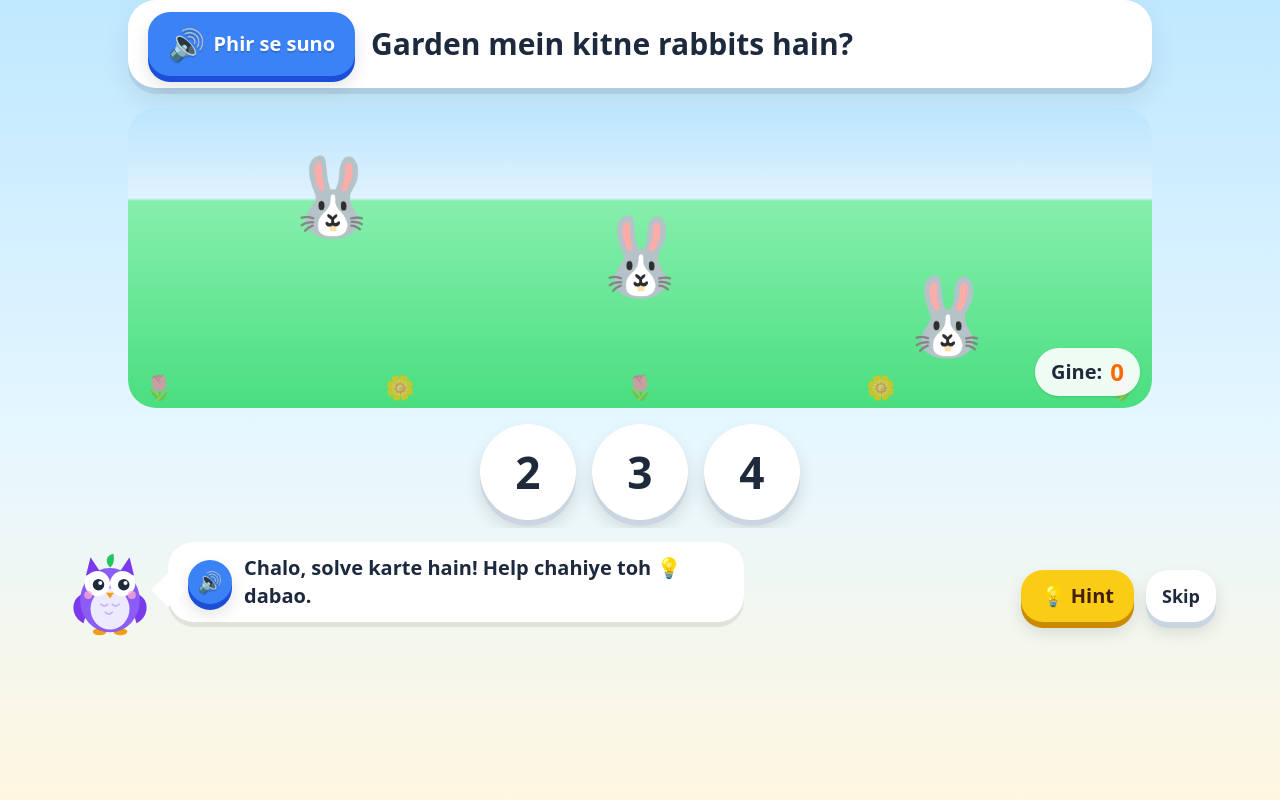
Test: QuestionHost › practice: wrong answer gives a hint and allows retry; outcome is "retry"
Click the button with test id "choice-2": (528, 472) [480,424,576,520]
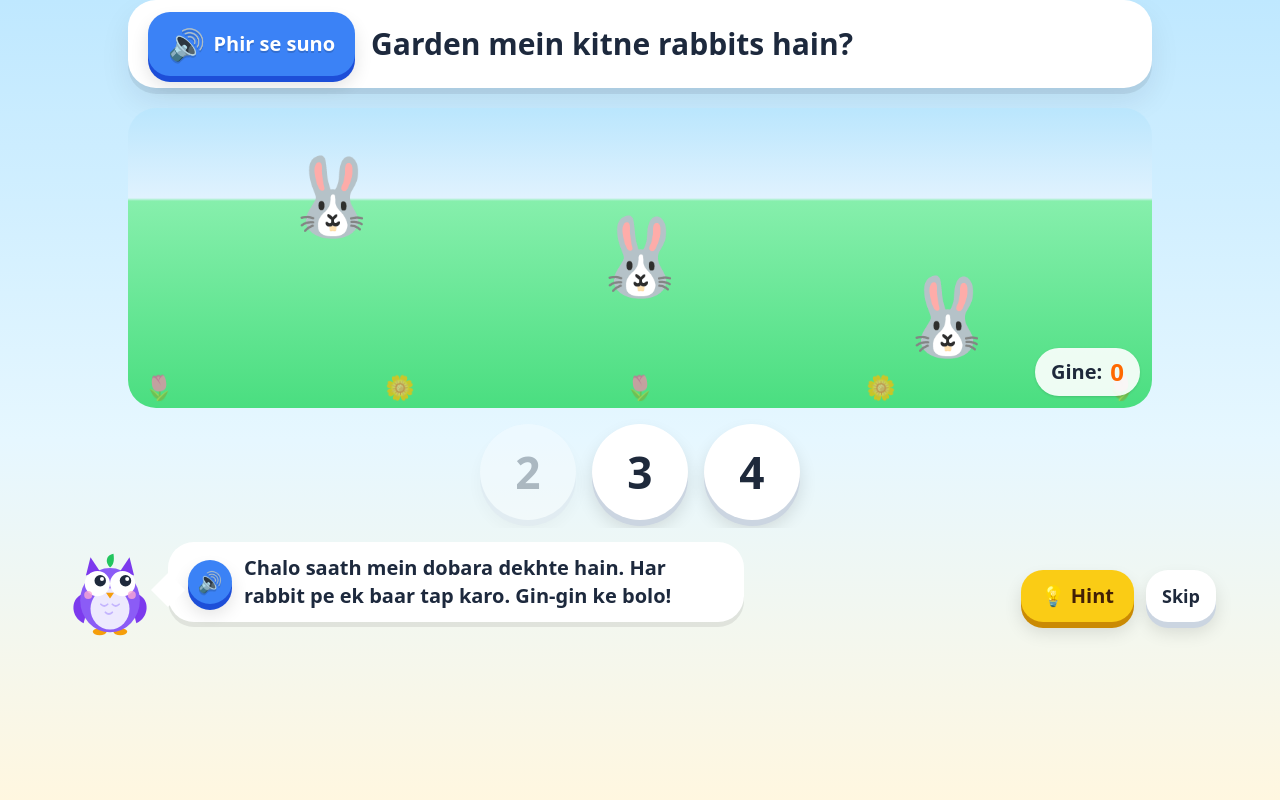
Expected: the text with test id "feedback-text" has attribute data-state="wrong", [244,554,724,610]
Click the button with test id "choice-3": (640, 472) [592,424,688,520]
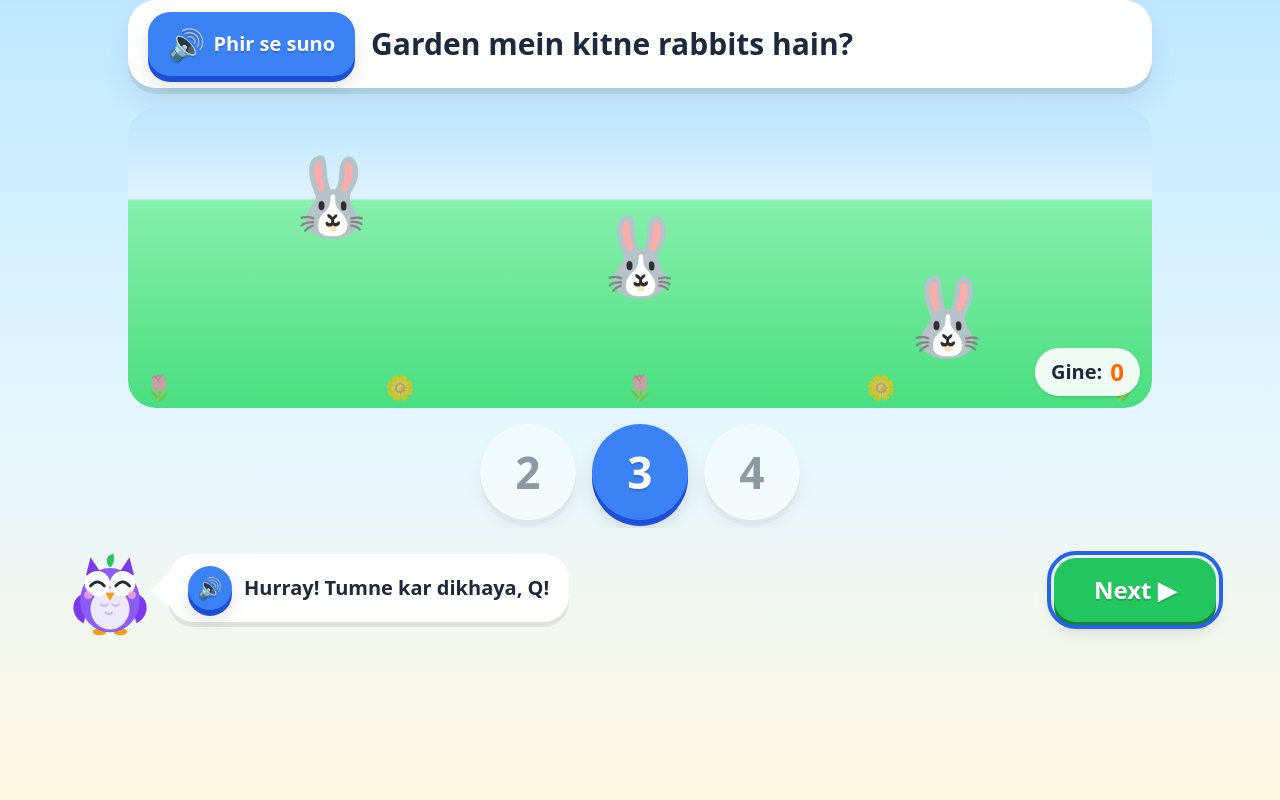
Expected: the button with test id "next" is shown, [1054,558,1216,622]
